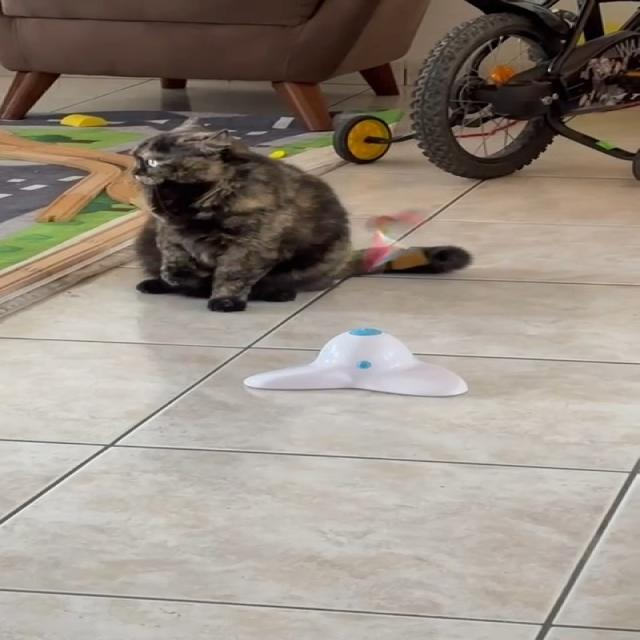authorized: (127, 115, 472, 312)
